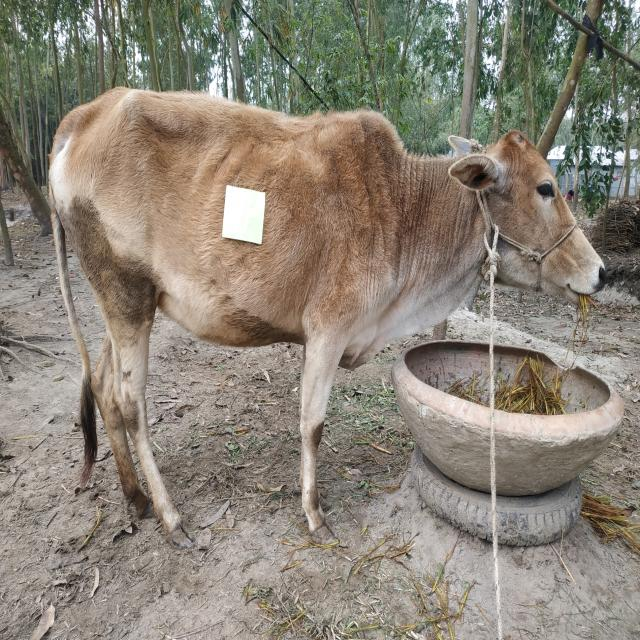badan_sapi: (58, 115, 365, 338)
sapi: (45, 76, 610, 550)
